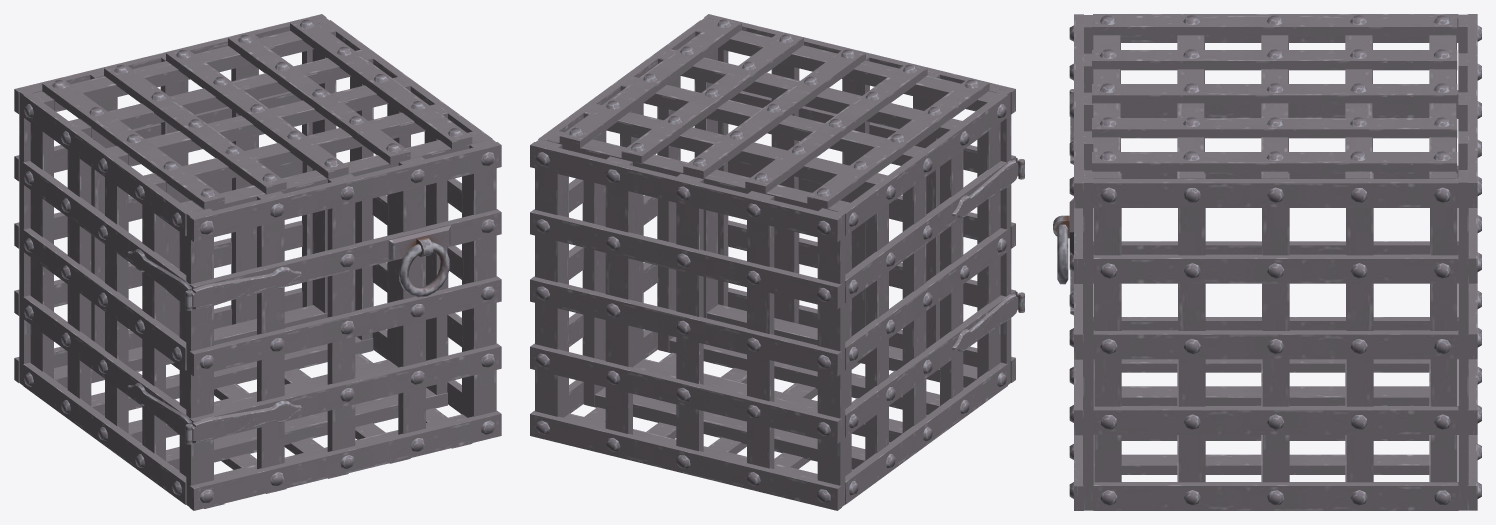
File: cage.glb
The picture shows the model from 3 angles, left to right: view 1: azimuth 30°, elevation 25°; view 2: azimuth 150°, elevation 25°; view 3: azimuth 270°, elevation 25°; orthographic projection. The views are drawn at different scales.
Visible parts, largest first — view 1: Cage_Small; view 2: Cage_Small; view 3: Cage_Small.
Boxes of the visible parts, left/top/right/bottom form: Cage_Small: left=14, top=14, right=501, bottom=510; Cage_Small: left=530, top=14, right=1024, bottom=510; Cage_Small: left=1053, top=14, right=1481, bottom=510.
Size of the model in its own units: 0.8549 by 0.8052 by 0.8843.
1 material, 1 textured.
